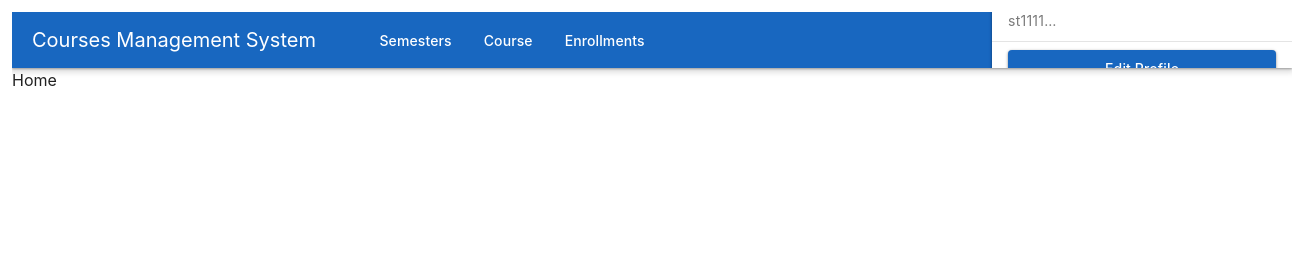
Test: Feature 3 — Course Management › US-3.1 — View Course List Page › Signed-in student navigates to course page
Click the button "Course": click(508, 40) left=468, top=22, right=549, bottom=58
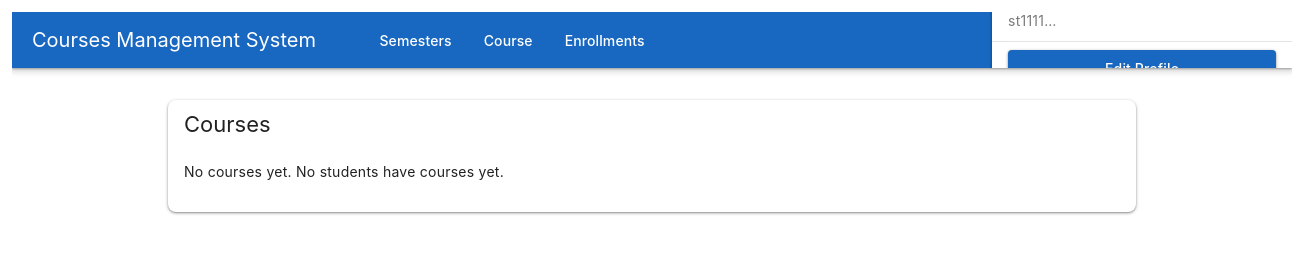
Expected: the text "Courses" is shown, left=32, top=28, right=316, bottom=52
Expected: the element showing "Courses No courses yet. No students have courses yet." is shown, left=152, top=68, right=1152, bottom=244
